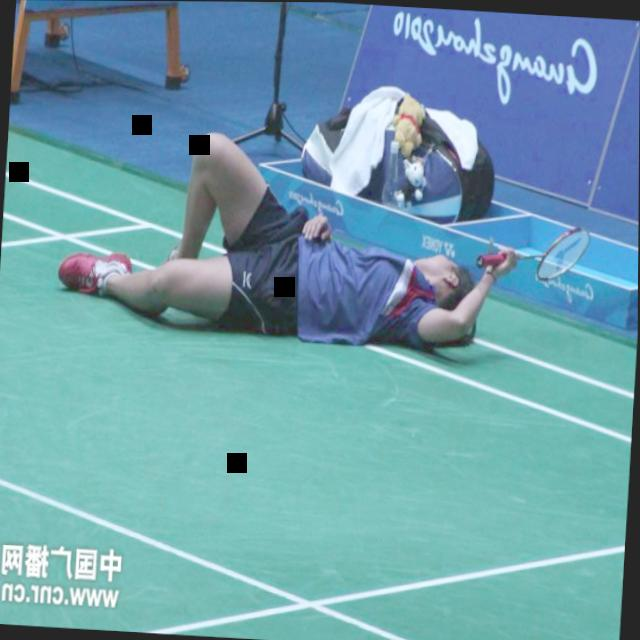Fall-Detected: (54, 110, 518, 370)
